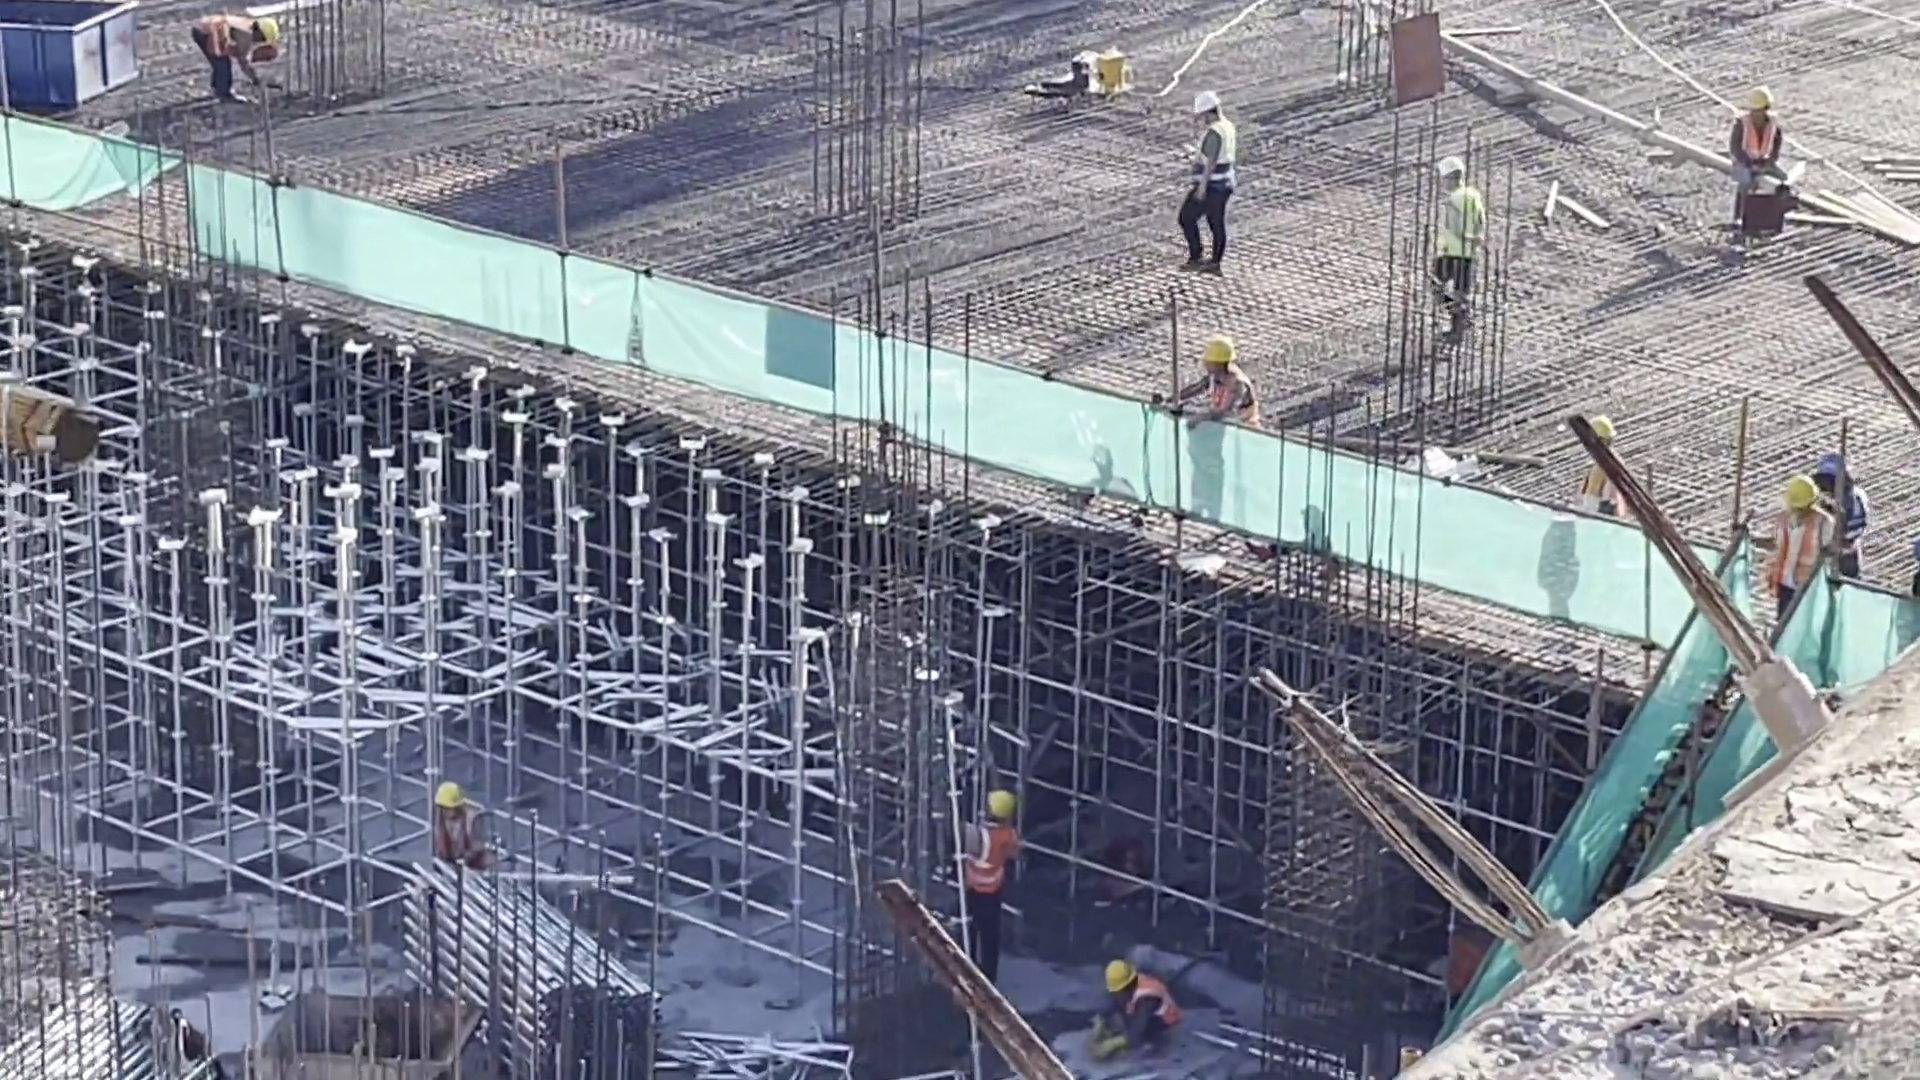helmet: (1096, 953, 1138, 994), (1782, 475, 1821, 507), (428, 777, 469, 807), (1820, 449, 1857, 480), (988, 785, 1016, 826), (1738, 94, 1774, 118), (1207, 334, 1234, 361), (1436, 160, 1462, 183), (258, 17, 278, 45), (1193, 96, 1217, 110)
person: (948, 782, 1036, 1004), (1166, 94, 1247, 278), (1074, 948, 1193, 1071), (1754, 483, 1854, 624), (1416, 151, 1486, 346), (1707, 93, 1801, 227), (1162, 330, 1263, 437), (1808, 450, 1884, 585), (189, 13, 282, 106), (421, 775, 500, 883), (1570, 422, 1636, 549)
vest: (186, 13, 253, 64), (966, 831, 1013, 904), (1775, 533, 1828, 598), (1448, 198, 1485, 267), (439, 819, 486, 871), (1135, 971, 1170, 1031), (1197, 373, 1243, 417), (1834, 494, 1867, 552), (1734, 126, 1778, 169), (1192, 131, 1228, 179), (1584, 465, 1621, 510)
